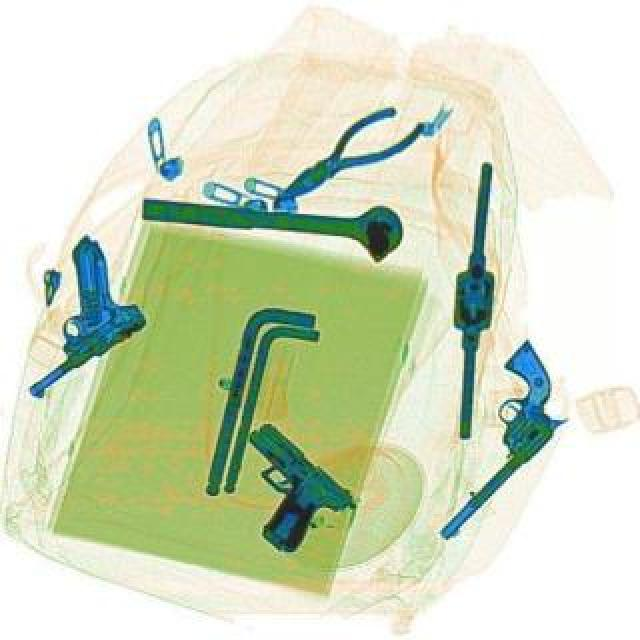gun: (380, 338, 594, 546), (198, 416, 356, 560), (0, 234, 152, 374)
wrench: (262, 92, 426, 220)
